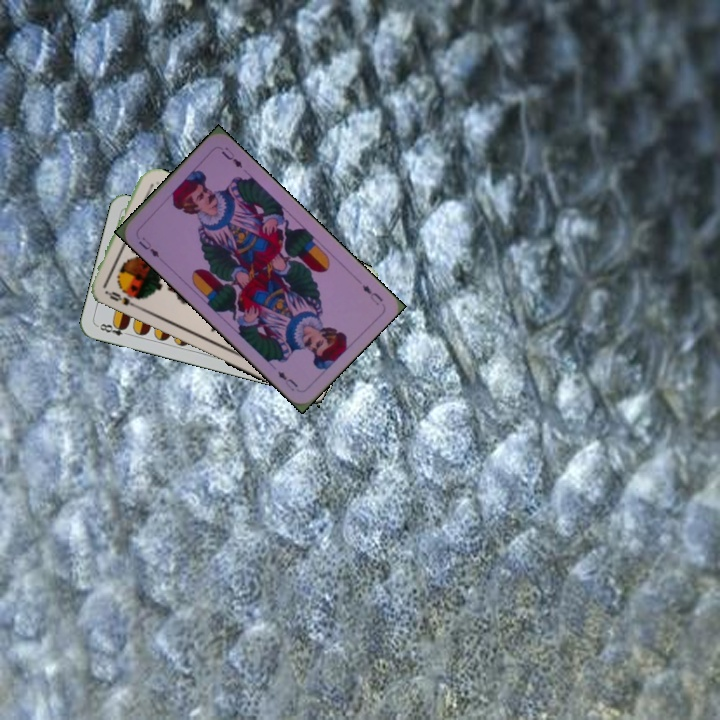E8: (94, 319, 133, 339)
EU: (134, 233, 165, 263), (358, 280, 385, 308)
SO: (101, 287, 140, 310)
